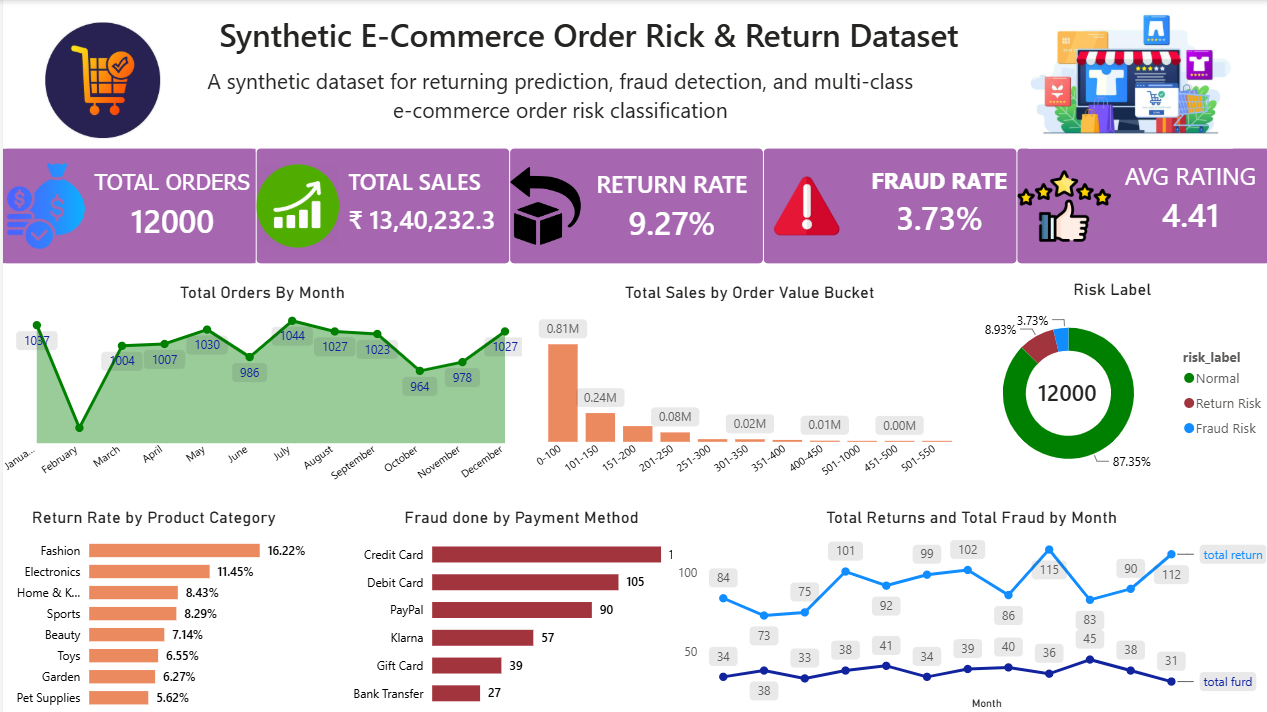

The dashboard page shown, as its layout file describes it:
{"tool":"powerbi","page":{"name":"Page 1","canvas":[1280,720],"ordinal":0},"visuals":[{"type":"donutChart","title":"Risk Label","fields":{"Category":["synthetic_ecommerce_order_risk_dataset.risk_label"],"Y":["CALANDER TABLE.risk lable count"]},"box":[960,282,320,210],"z":0},{"type":"cardVisual","title":"TOTAL ","fields":{"Data":["CALANDER TABLE.total orders","CALANDER TABLE.Total Sales1","CALANDER TABLE.return rate","CALANDER TABLE.FRAUD RATE","CALANDER TABLE.AVG RATING"]},"box":[0,150,1280,116],"z":1000},{"type":"stackedAreaChart","title":"Total Orders By Month","fields":{"Y":["CALANDER TABLE.total orders"],"Category":["CALANDER TABLE.Date.Variation.Date Hierarchy.Month"]},"box":[0,284.7,523.9,207.4],"z":2000},{"type":"clusteredBarChart","title":"Return Rate by Product Category","fields":{"Category":["synthetic_ecommerce_order_risk_dataset.product_category"],"Y":["CALANDER TABLE.return rate"]},"box":[0,511.7,305,208.3],"z":3000},{"type":"clusteredBarChart","title":"Fraud done by Payment Method","fields":{"Y":["Sum(synthetic_ecommerce_order_risk_dataset.is_fraud)"],"Category":["synthetic_ecommerce_order_risk_dataset.payment_method"]},"box":[345,511.7,356.7,208.3],"z":4000},{"type":"lineChart","title":"Total Returns and Total Fraud by Month","fields":{"Category":["CALANDER TABLE.Date.Variation.Date Hierarchy.Month"],"Y":["CALANDER TABLE.total return","CALANDER TABLE.total furd"]},"box":[675,511.7,605,208.3],"z":5000},{"type":"columnChart","title":"Total Sales by Order Value Bucket","fields":{"Category":["synthetic_ecommerce_order_risk_dataset.Order Value Bucket"],"Y":["CALANDER TABLE.Total Sales1"]},"box":[530,284,448,208],"z":6000},{"type":"cardVisual","fields":{"Data":["CALANDER TABLE.total orders"]},"box":[1033,370,90,50],"z":7000},{"type":"image","box":[0,22.4,201.4,116.4],"z":8000},{"type":"cardVisual","fields":{"Data":["CALANDER TABLE.asd"]},"box":[201.4,0,795,66.6],"z":9000},{"type":"textbox","box":[201.4,66.6,722.3,83.3],"z":10000},{"type":"image","box":[996,0,284,150],"z":11000}]}

Visuals, with their boxes in screenshot pixels (x1, y1, x2, y2), scaled from the page's 1280x720 canvas onto the 1267x712 screenshot:
"Risk Label" donutChart: locate(950, 279, 1266, 487)
"TOTAL " cardVisual: locate(0, 148, 1266, 263)
"Total Orders By Month" stackedAreaChart: locate(0, 282, 519, 487)
"Return Rate by Product Category" clusteredBarChart: locate(0, 506, 302, 711)
"Fraud done by Payment Method" clusteredBarChart: locate(341, 506, 695, 711)
"Total Returns and Total Fraud by Month" lineChart: locate(668, 506, 1266, 711)
"Total Sales by Order Value Bucket" columnChart: locate(525, 281, 968, 487)
cardVisual - CALANDER TABLE.total orders: locate(1023, 366, 1112, 415)
image: locate(0, 22, 199, 137)
cardVisual - CALANDER TABLE.asd: locate(199, 0, 986, 66)
textbox: locate(199, 66, 914, 148)
image: locate(986, 0, 1266, 148)
